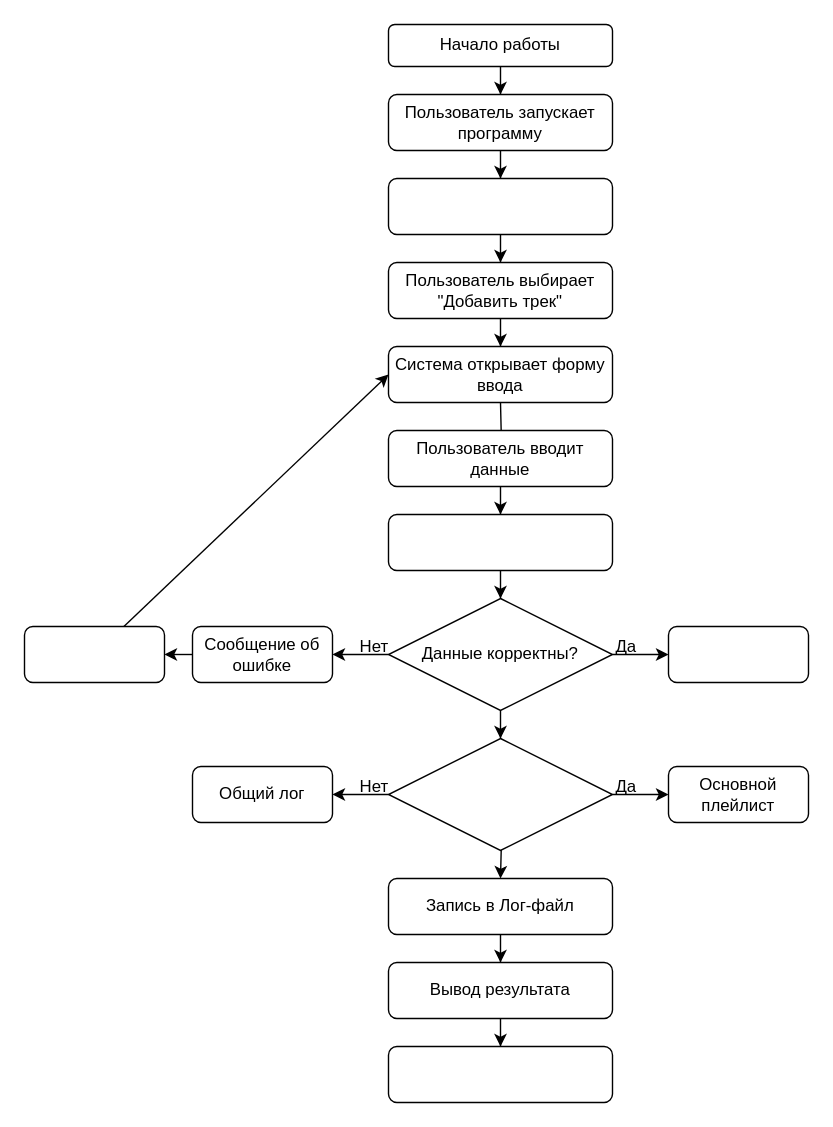
This 833x1127 diagram has some shape labels left out. The shapes that lost their labels are listed below. From the top down, each one's centre as x and y in pixels, then its label:
(x=499, y=205): Система открывает главное окно
(x=499, y=541): Пользователь нажимает "Сохранить"
(x=93, y=653): Назад к вводу
(x=737, y=653): Сохранение записи
(x=499, y=793): Оценка = 5?
(x=499, y=1073): Конец
